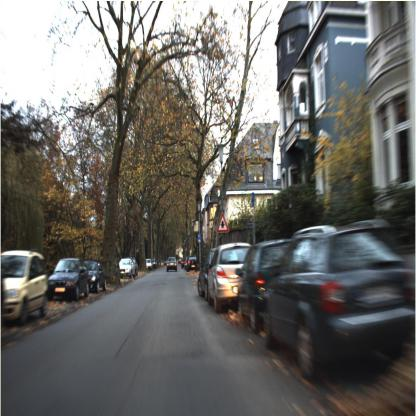danger: (215, 207, 230, 236)
